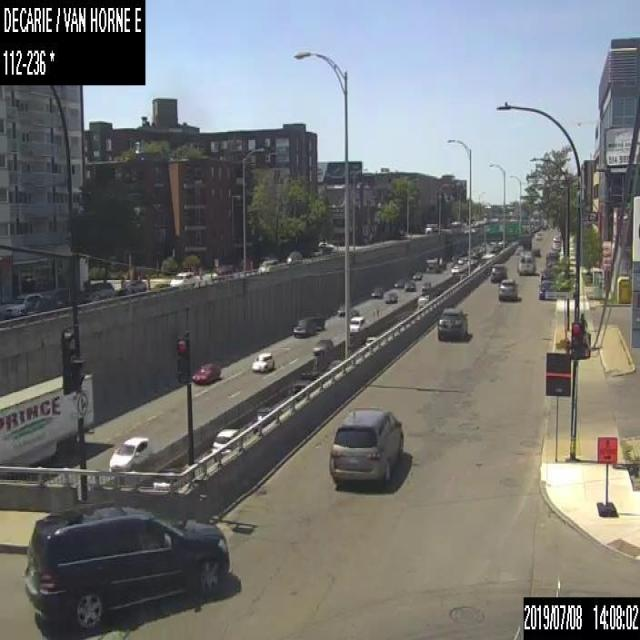construction: (596, 435, 616, 516)
pedestrian: (578, 312, 588, 331)
vehicle: (22, 499, 229, 635), (0, 372, 95, 465), (326, 408, 404, 491), (107, 433, 149, 472), (0, 290, 43, 318), (436, 307, 468, 340), (79, 278, 115, 302), (247, 405, 278, 432), (291, 369, 320, 396), (292, 312, 323, 337), (211, 427, 241, 452), (193, 361, 219, 384), (496, 277, 518, 300), (251, 351, 274, 372), (118, 280, 146, 296), (168, 270, 195, 286), (489, 262, 508, 282), (516, 251, 534, 272), (538, 280, 555, 300), (347, 316, 365, 334), (424, 254, 444, 270), (210, 264, 234, 277), (312, 339, 332, 354), (258, 258, 278, 272), (516, 233, 532, 249), (283, 249, 301, 263), (539, 266, 554, 281), (416, 292, 429, 308), (423, 222, 437, 235), (449, 220, 463, 231), (370, 286, 382, 298), (384, 290, 396, 302), (362, 335, 374, 347), (392, 276, 404, 287), (551, 238, 561, 251), (404, 279, 414, 291), (336, 304, 346, 316), (411, 269, 422, 279), (348, 308, 358, 319), (530, 246, 540, 256), (515, 243, 524, 254), (450, 264, 461, 273), (420, 281, 429, 291), (534, 231, 541, 240)
